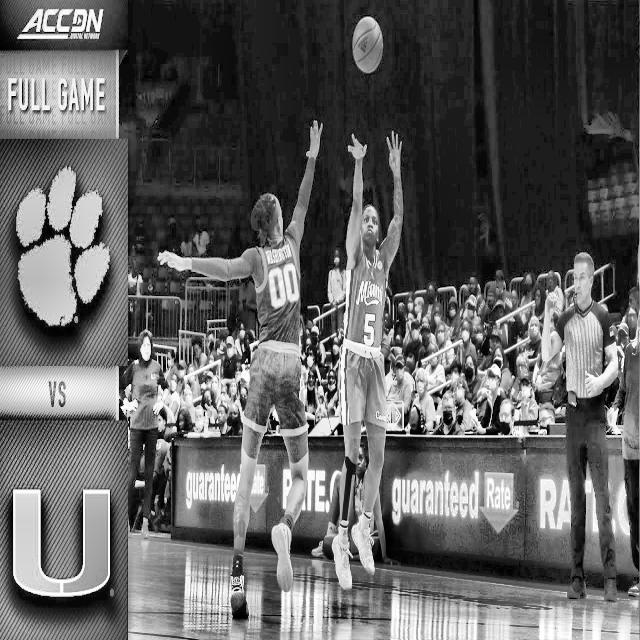Basketball: (353, 15, 384, 72)
